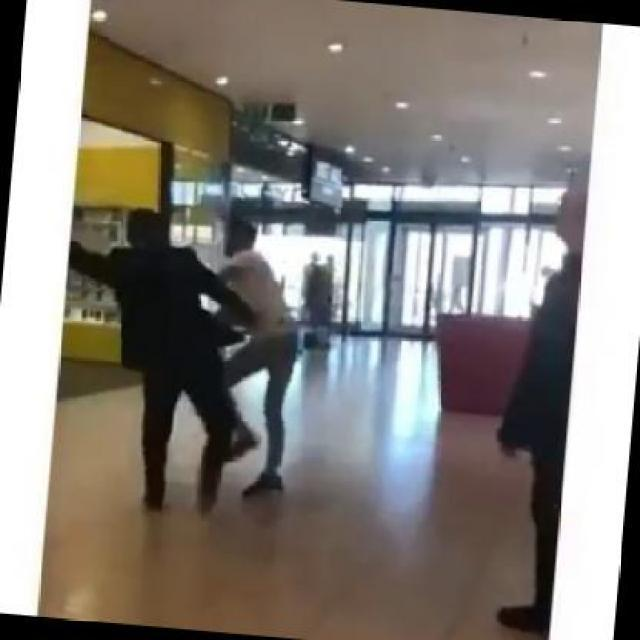fight: (86, 200, 311, 520)
